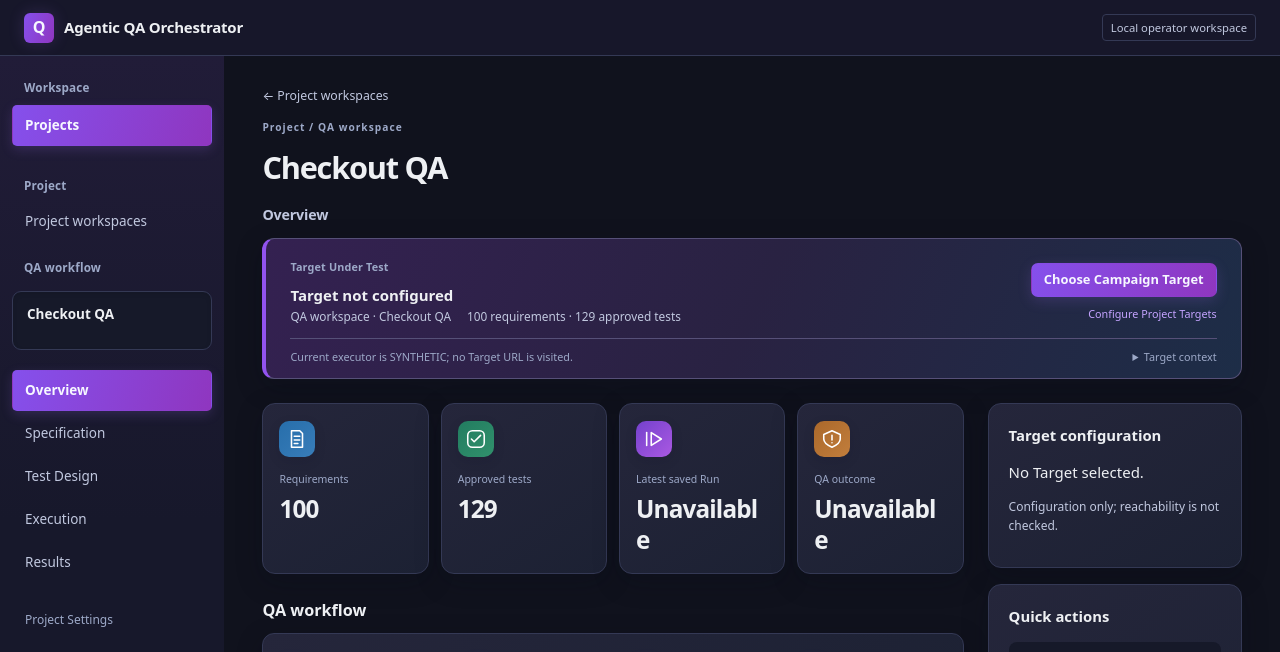
Test case: shows a legacy Campaign honestly and explicitly associates a Target without invoking a Run
Check: the text "Target not configured" is shown, box 290,285 -> 453,305
Click the button "Choose Campaign Target" at point(1124, 280), box 1031,263 -> 1217,297
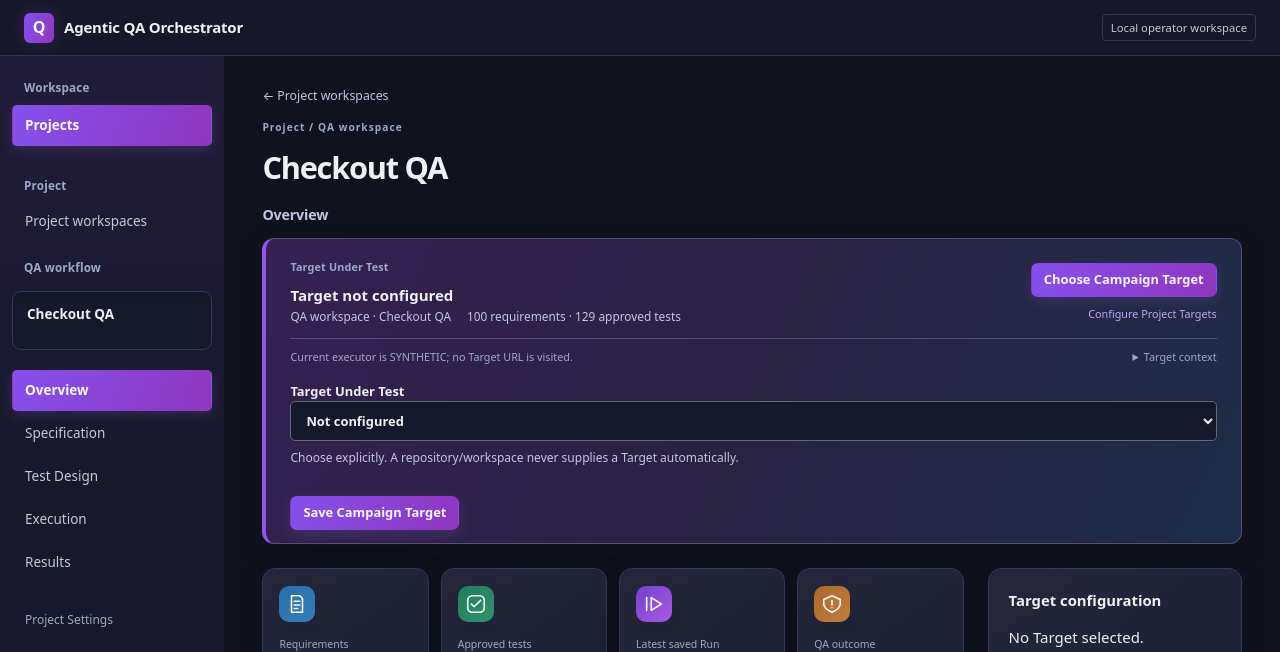
Select "Staging WEB · STAGING" in the dropdown labelled "Target Under Test" at point(754, 421), box 290,401 -> 1217,441
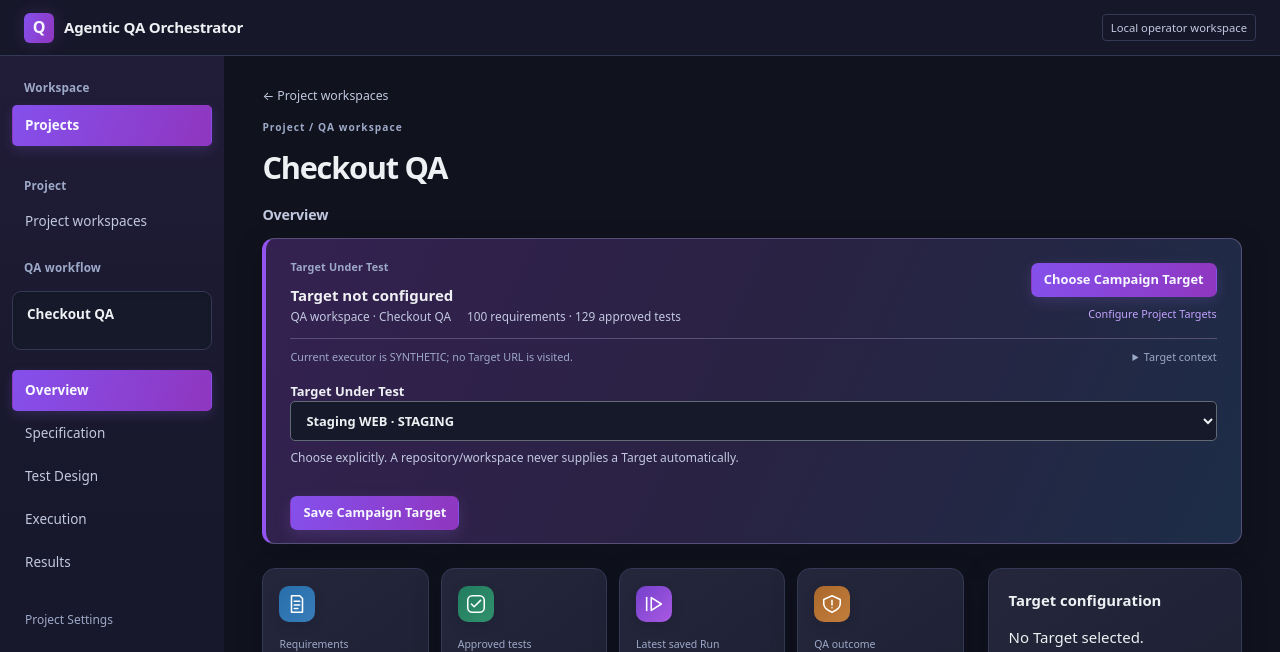
Submit the form named "Campaign Target selection", box 290,365 -> 1217,530
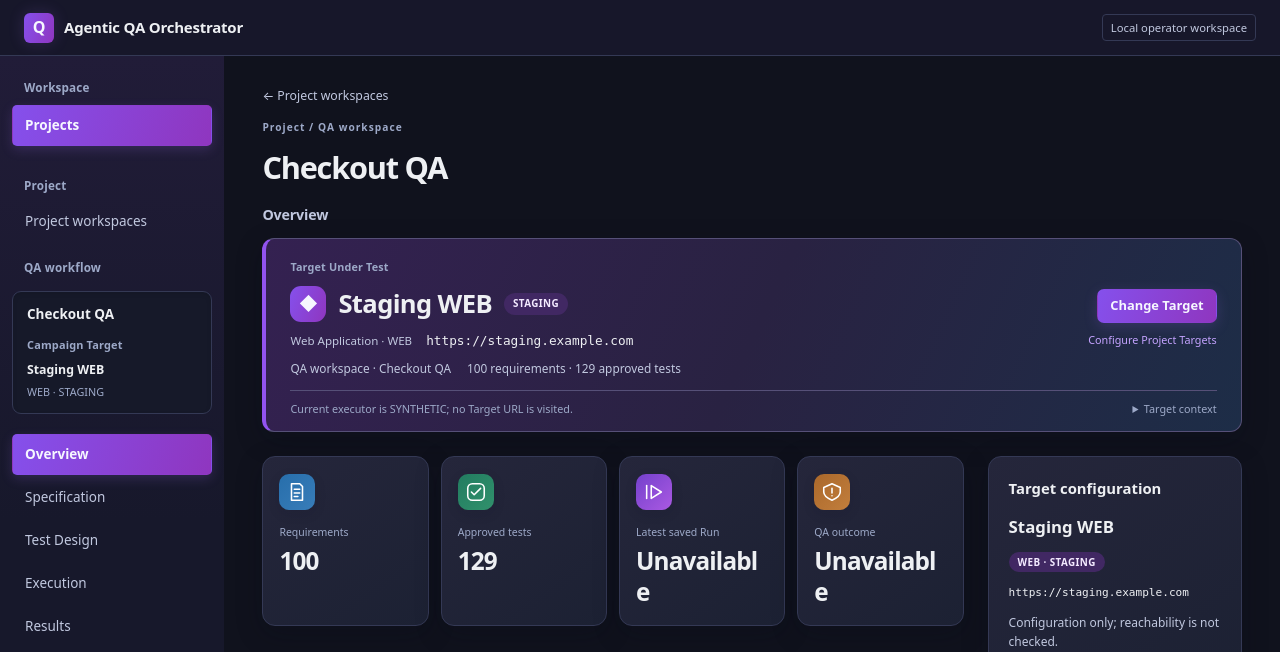
Check: the text "Current executor is SYNTHETIC; no Target URL is visited." is shown, box 290,401 -> 573,418
Check: the text "https://staging.example.com" in the row of "Web Application ·" is shown, box 426,333 -> 633,348
